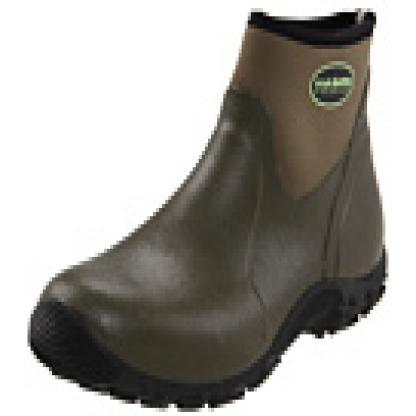bota: (27, 11, 390, 408)
